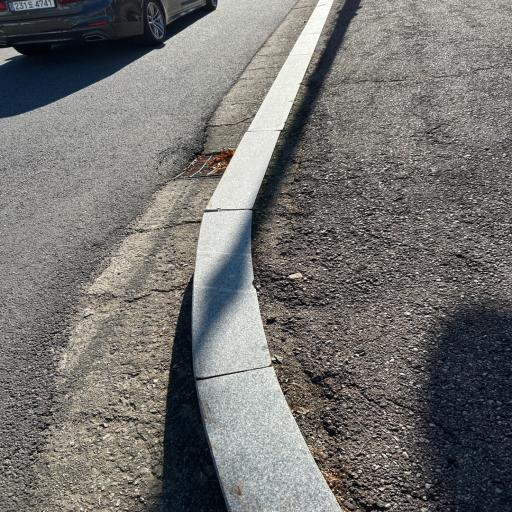debris: (207, 150, 233, 175), (181, 155, 208, 177)
drain: (175, 154, 234, 178)
